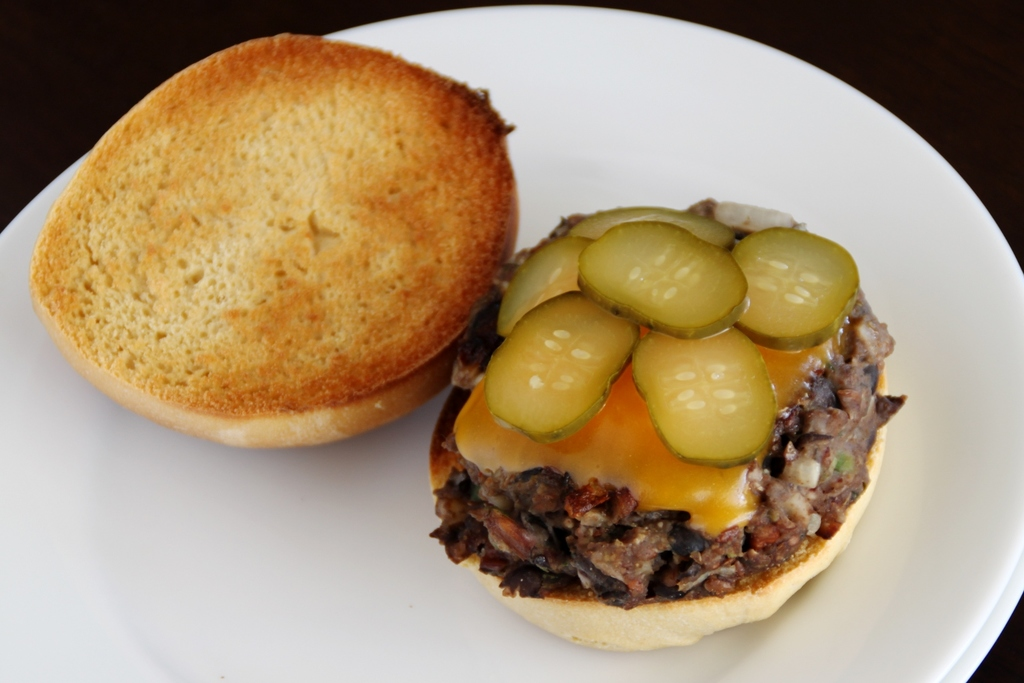Hamburger: (27, 32, 908, 650)
